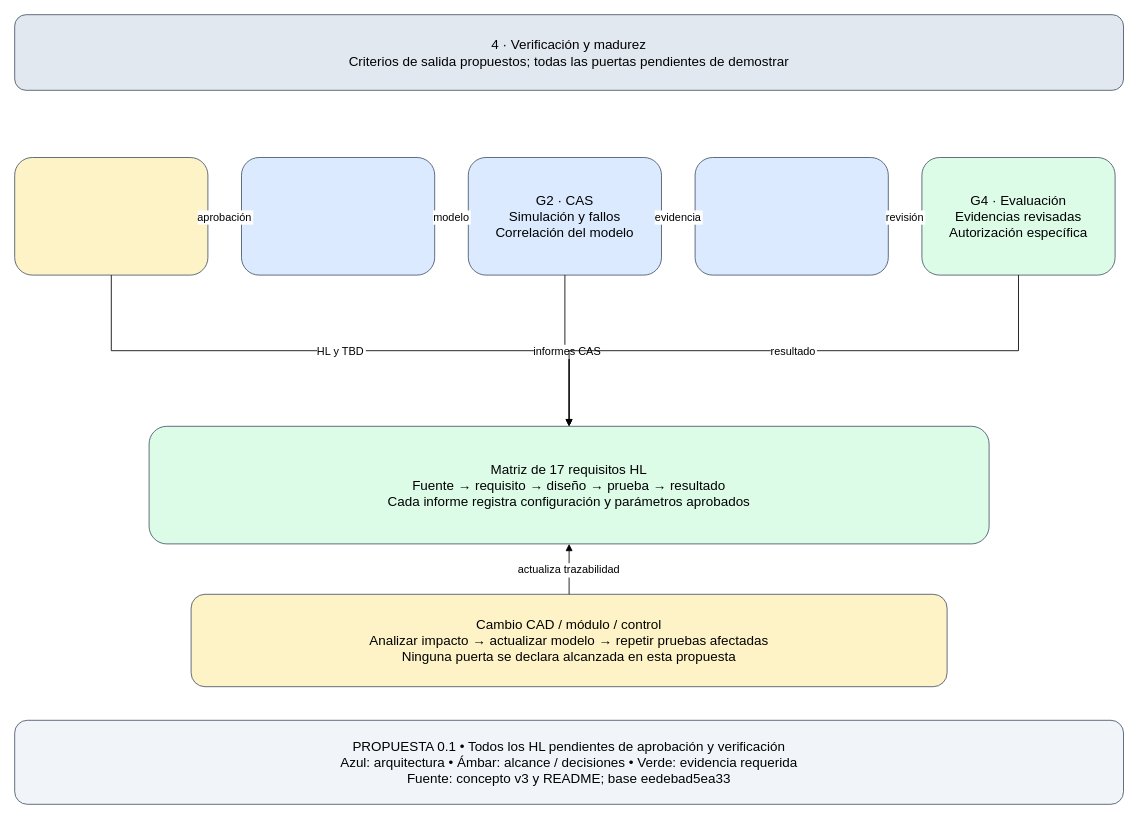
Image size: 1138x819. Some labels were removed from this diagram. The shapes that lost their labels are listed below. From the top down, each one's centre as x and y in pixels, then its label:
At (111,216): "G0 · Requisitos Uso previsto + riesgos Cerrar TBD aplicables".
At (338,216): "G1 · CAD Paramétrico + interfaces Cargas y ajuste".
At (791,216): "G3 · CAM / banco Fabricación / inspección Pruebas contra límites".
